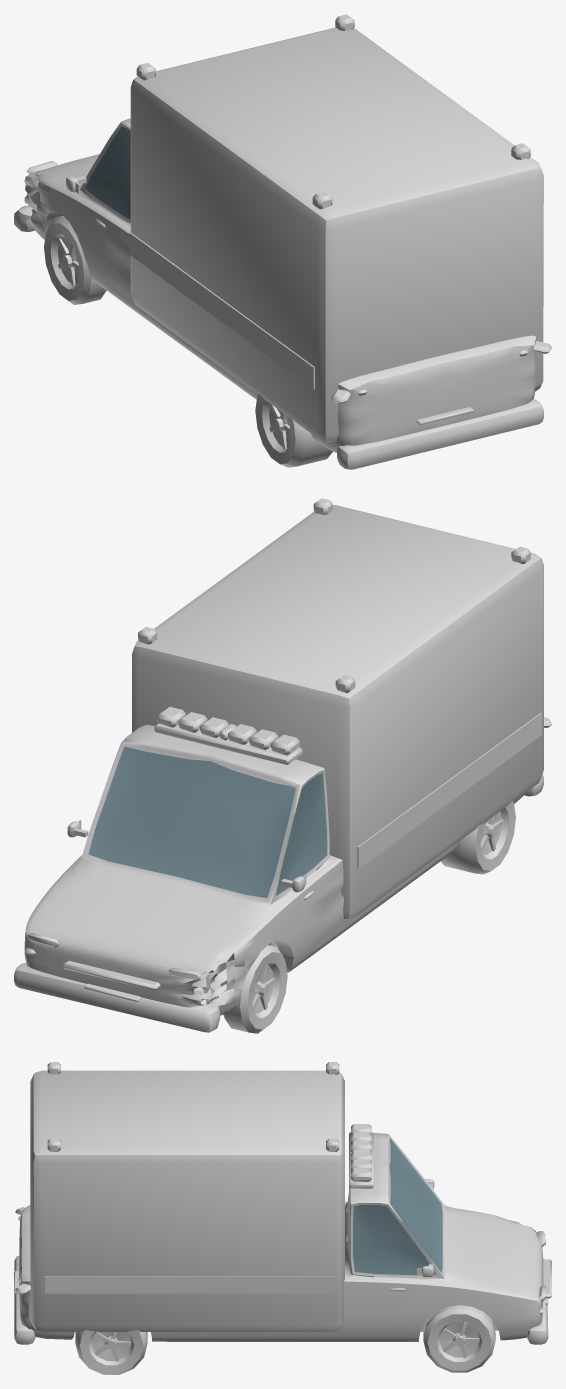
Rendered from car_ambulance_dmg1.glb.
The picture shows the model from 3 angles, top to bottom: view 1: azimuth 30°, elevation 25°; view 2: azimuth 150°, elevation 25°; view 3: azimuth 270°, elevation 25°; orthographic projection. The views are drawn at different scales.
Parts seen in each view (by area): view 1: car_ambulance_dmg1; view 2: car_ambulance_dmg1; view 3: car_ambulance_dmg1.
Part boxes in pixels (x1,y1,x2,y2): car_ambulance_dmg1: [14, 14, 551, 469]; car_ambulance_dmg1: [14, 498, 551, 1033]; car_ambulance_dmg1: [14, 1062, 551, 1374].
Size of the model in its own units: 2.24 by 2.7 by 5.64.
